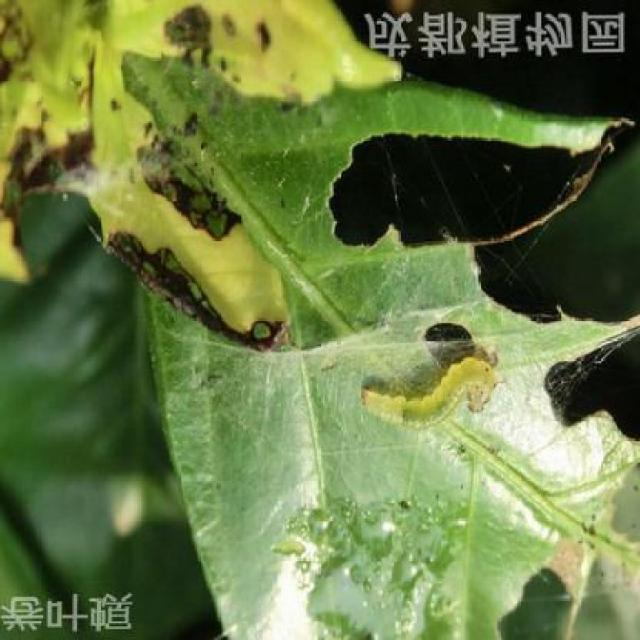leaf-folder: (342, 334, 548, 446)
